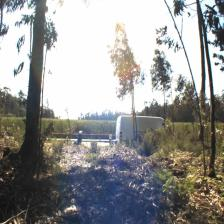trunktrack_idkeyframe: (16, 13, 46, 157), (208, 79, 216, 173), (197, 26, 206, 106)
